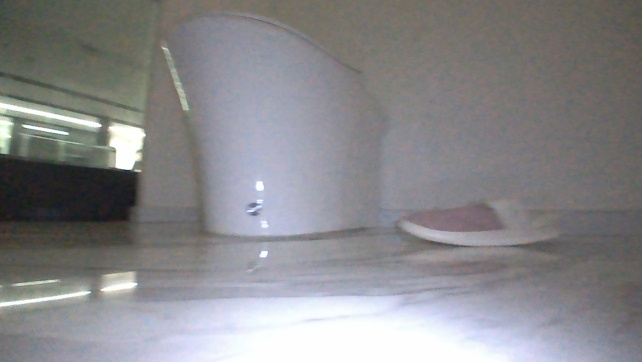shoe: (385, 192, 581, 258)
toilet: (141, 5, 386, 245)
